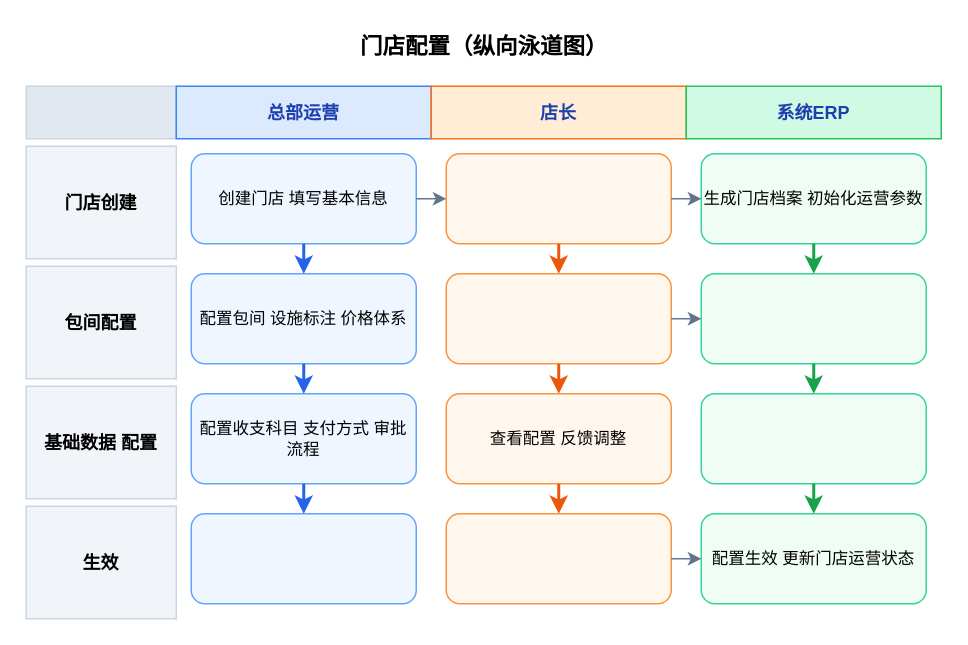
The diagram is 968 pixels wide and 645 high, and some of its shapes have lost their labels. Here are the shapes that lost their labels. From the top down, the centre of each, then its label:
(x=100, y=112): 角色 / 阶段
(x=558, y=198): 确认门店信息 补充门店特色
(x=558, y=318): 确认包间信息 拍照上传
(x=813, y=318): 生成包间信息 关联IoT设备
(x=813, y=438): 保存配置 应用至门店
(x=303, y=558): 确认配置完成
(x=558, y=558): 验收并确认
